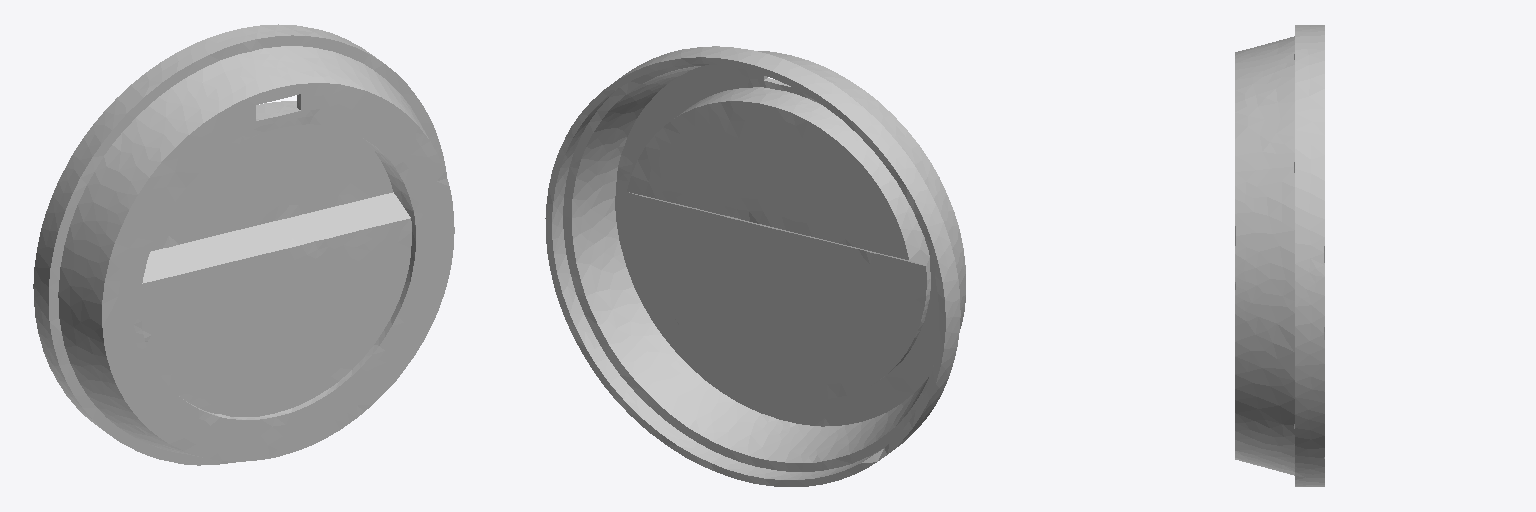
File: test_good.obj
3 renders of one model, left to right at view 1: azimuth 30°, elevation 25°; view 2: azimuth 150°, elevation 25°; view 3: azimuth 270°, elevation 25°, orthographic.
Size of the model in its own units: 78.72 by 78.68 by 15.24.